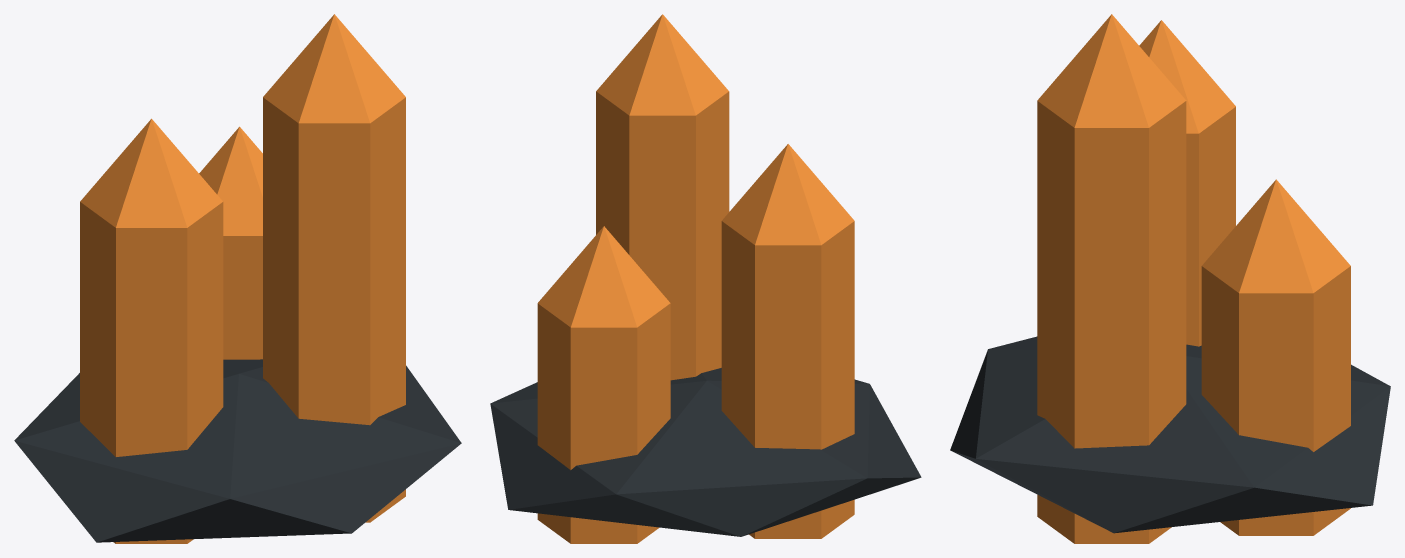
Rendered from techtorium.glb.
3 renders of one model, left to right at view 1: azimuth 30°, elevation 25°; view 2: azimuth 150°, elevation 25°; view 3: azimuth 270°, elevation 25°, orthographic. The views are drawn at different scales.
Parts seen in each view (by area): view 1: techtorium / Techtorium, techtorium / Rubber and recesses; view 2: techtorium / Techtorium, techtorium / Rubber and recesses; view 3: techtorium / Techtorium, techtorium / Rubber and recesses.
Boxes of the visible parts, x1=… form: techtorium / Techtorium: x1=80, y1=14, x2=405, y2=543; techtorium / Rubber and recesses: x1=14, y1=359, x2=461, y2=542; techtorium / Techtorium: x1=537, y1=14, x2=854, y2=543; techtorium / Rubber and recesses: x1=490, y1=368, x2=921, y2=536; techtorium / Techtorium: x1=1037, y1=14, x2=1350, y2=543; techtorium / Rubber and recesses: x1=950, y1=336, x2=1390, y2=533.
Size of the model in its own units: 0.2436 by 0.2919 by 0.2305.
